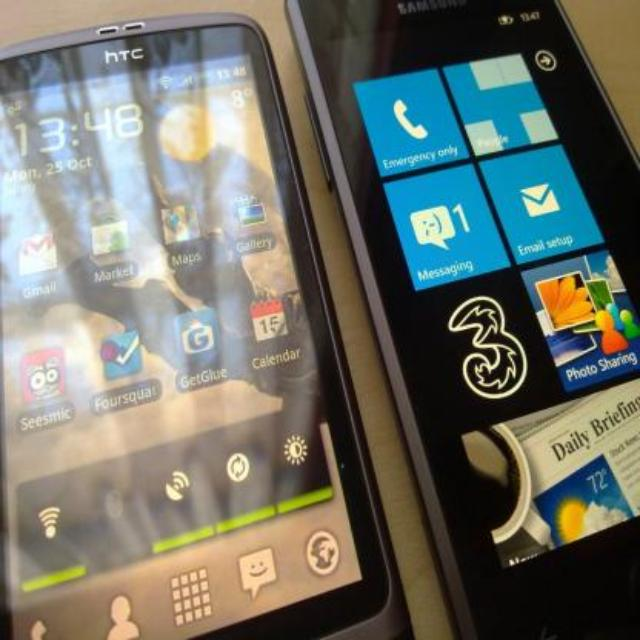Smartphone: (12, 0, 422, 640), (284, 0, 640, 640)
